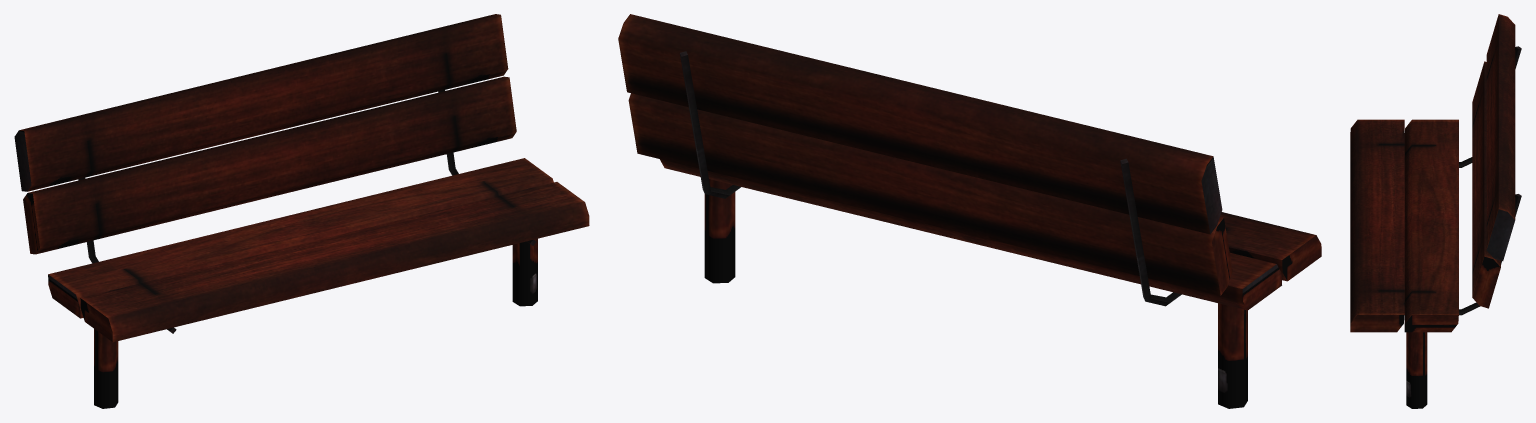
File: streetbench2.obj
3 renders of one model, left to right at view 1: azimuth 30°, elevation 25°; view 2: azimuth 150°, elevation 25°; view 3: azimuth 270°, elevation 25°, orthographic. The views are drawn at different scales.
Visible parts, largest first — view 1: streetbanch2; view 2: streetbanch2; view 3: streetbanch2.
Boxes of the visible parts, x1=… form: streetbanch2: x1=14, y1=14, x2=589, y2=408; streetbanch2: x1=618, y1=14, x2=1321, y2=408; streetbanch2: x1=1350, y1=14, x2=1521, y2=408.
Bounding box in the file's own units: 1.08 × 0.5321 × 0.4022.
1 material, 1 textured.
